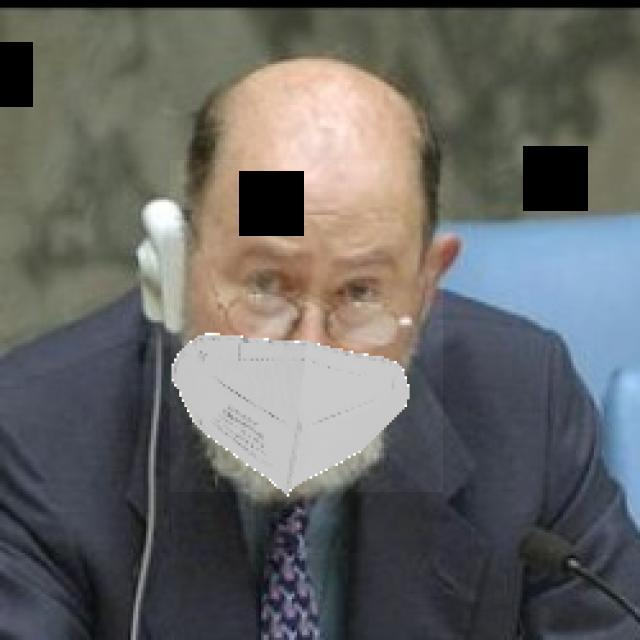kn95: (170, 160, 443, 492)
